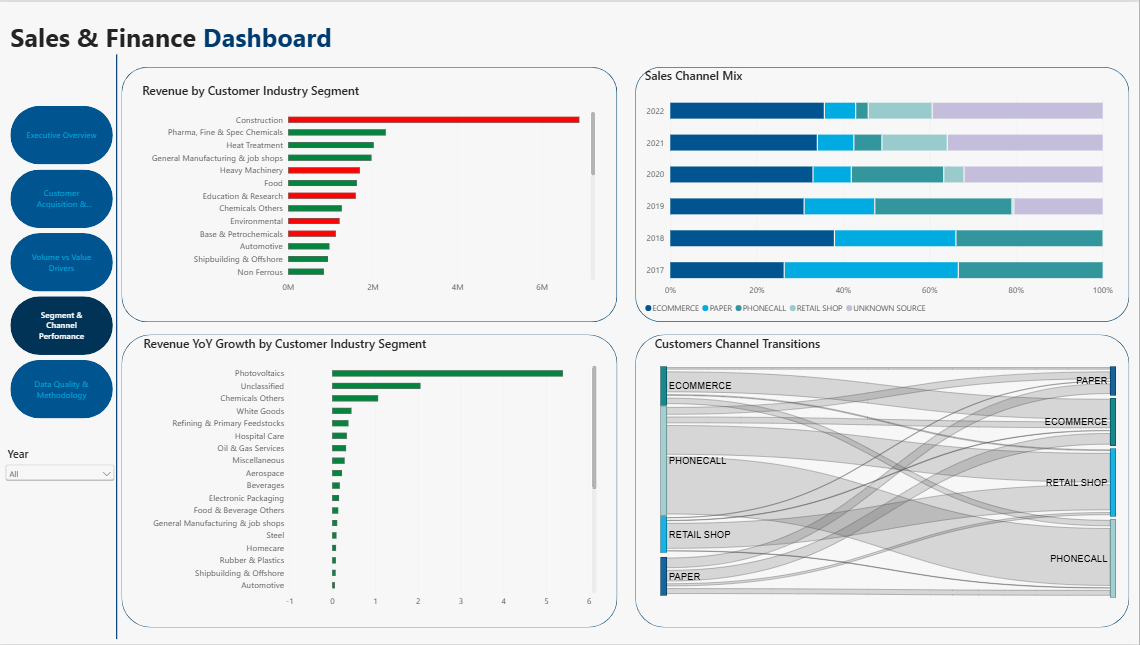

This screenshot's page, from the dashboard's own definition file:
{"tool":"powerbi","page":{"name":"Segment & Channel Perfomance","canvas":[1920,1080],"ordinal":3},"visuals":[{"type":"shape","box":[205.3,561.1,835.4,493.7],"z":0},{"type":"shape","box":[1072.1,561.1,832.3,493.7],"z":1000},{"type":"shape","box":[1072.1,109.7,832.3,429.5],"z":2000},{"type":"shape","box":[205.7,109.7,835,429.7],"z":3000},{"type":"hundredPercentStackedBarChart","title":"Sales Channel Mix","fields":{"Category":["Year Selector.Year"],"Series":["Order.ORDER_CHANNEL"],"Y":["Order.Total Revenue"]},"box":[1072.1,95.6,821.3,451],"z":4000},{"type":"textbox","box":[19,29.2,557.3,80.2],"z":5000},{"type":"shape","box":[192,88,13.1,984.8],"z":6000},{"type":"slicer","fields":{"Values":["Year Selector.Year"]},"box":[6.3,747.6,192.8,69],"z":7000},{"type":"clusteredBarChart","title":"Revenue YoY Growth by Customer Industry Segment","fields":{"Category":["Order.CUSTOMER_INDUSTRY_SEGMENT"],"Y":["Order.Revenue YoY % Correct"]},"box":[227,547,795.4,492.2],"z":8000},{"type":"clusteredBarChart","title":"Revenue by Customer Industry Segment","fields":{"Category":["Order.CUSTOMER_INDUSTRY_SEGMENT"],"Y":["Order.Total Revenue"]},"box":[225.5,120.4,795.4,391.6],"z":9000},{"type":"sankey02300D1BE6F5427989F3DE31CCA9E0F32020","title":"Customers Channel Transitions","fields":{"Source":["Previous Customer Channel.From Channel"],"Destination":["Previous Customer Channel.To Channel"],"Weight":["Previous Customer Channel.Transition Customers"]},"box":[1089.5,547,830.5,486.1],"z":10000},{"type":"pageNavigator","box":[18.8,174,174,529.8],"z":11000}]}

Visuals, with their boxes on the page's 1920x1080 design canvas (x1, y1, x2, y2). These are canvas units, not pixel positions in the 1140x645 screenshot, which may show the page scaled, cropped or inside an application window:
shape: detection(205, 561, 1041, 1055)
shape: detection(1072, 561, 1904, 1055)
shape: detection(1072, 110, 1904, 539)
shape: detection(206, 110, 1041, 539)
"Sales Channel Mix" hundredPercentStackedBarChart: detection(1072, 96, 1893, 547)
textbox: detection(19, 29, 576, 109)
shape: detection(192, 88, 205, 1073)
slicer - Year Selector.Year: detection(6, 748, 199, 817)
"Revenue YoY Growth by Customer Industry Segment" clusteredBarChart: detection(227, 547, 1022, 1039)
"Revenue by Customer Industry Segment" clusteredBarChart: detection(226, 120, 1021, 512)
"Customers Channel Transitions" sankey02300D1BE6F5427989F3DE31CCA9E0F32020: detection(1090, 547, 1920, 1033)
pageNavigator: detection(19, 174, 193, 704)
